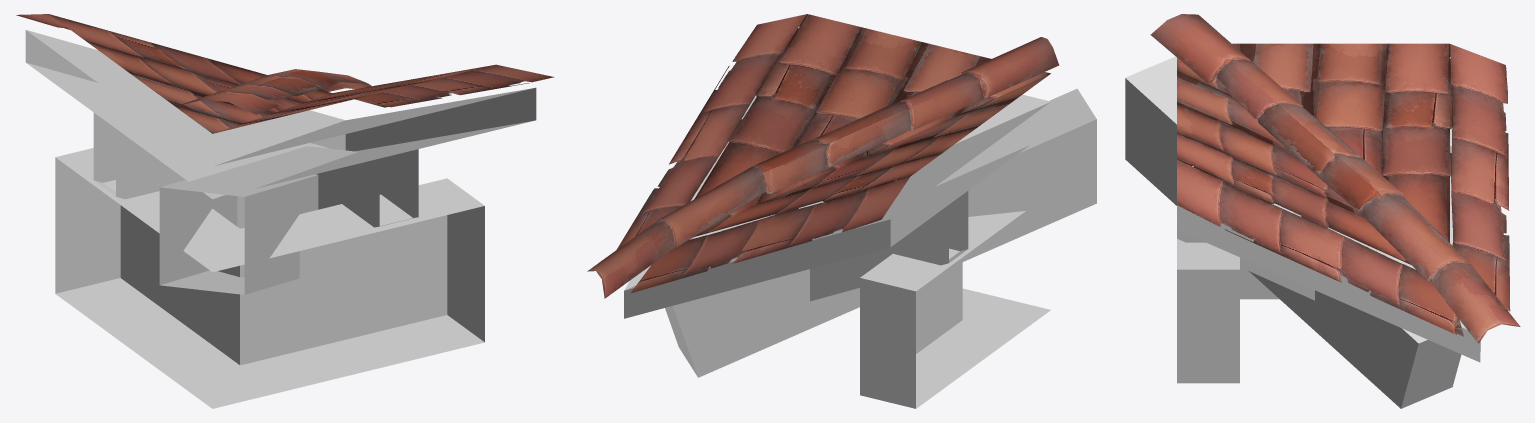
File: WallKit_Valley_End_LOD1.fbx
3 views of the same model, side by side, from view 1: azimuth 30°, elevation 25°; view 2: azimuth 150°, elevation 25°; view 3: azimuth 270°, elevation 25° (orthographic). The views are drawn at different scales.
Parts seen in each view (by area): view 1: WallKit_Valley_End_LOD1; view 2: WallKit_Valley_End_LOD1; view 3: WallKit_Valley_End_LOD1.
Boxes of the visible parts, x1=… form: WallKit_Valley_End_LOD1: x1=16, y1=14, x2=554, y2=408; WallKit_Valley_End_LOD1: x1=587, y1=14, x2=1096, y2=408; WallKit_Valley_End_LOD1: x1=1125, y1=14, x2=1520, y2=408.
Bounding box in the file's own units: 131 × 98.91 × 131.
